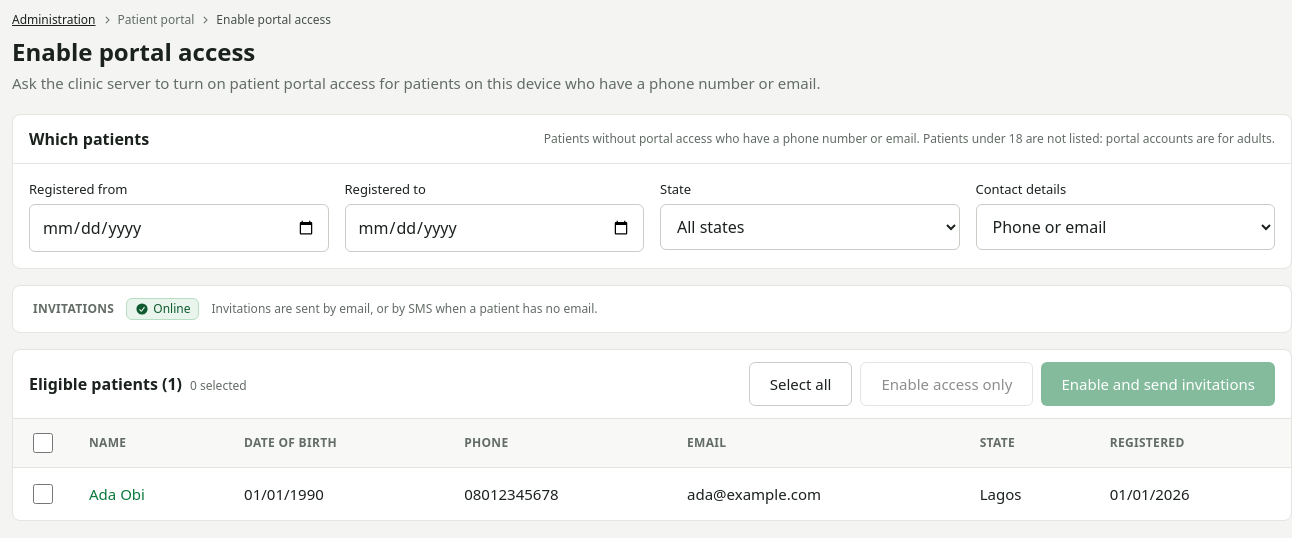
Scenario: PortalMigration invitations › does not block invitations while the sign-in check has not finished
Click the checkbox named "Select Ada Obi": click(43, 494) x1=33 y1=484 x2=53 y2=504
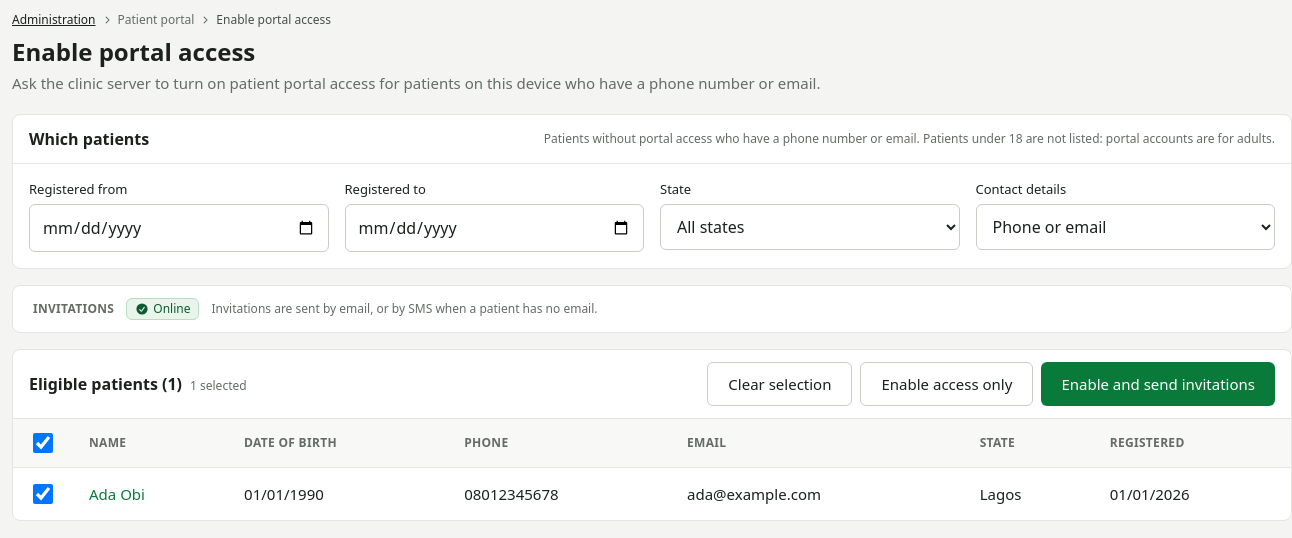
Expected: the button "Enable and send invitations" is enabled, x1=1041 y1=362 x2=1275 y2=406
